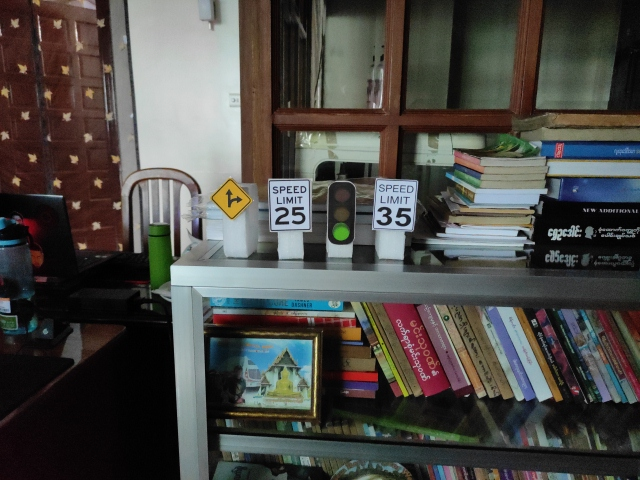Green Traffic Light: (327, 180, 357, 244)
Speed Limit 25: (267, 177, 313, 232)
Speed Limit 35: (372, 176, 418, 232)
Straight Or Right Sign: (212, 178, 253, 220)
